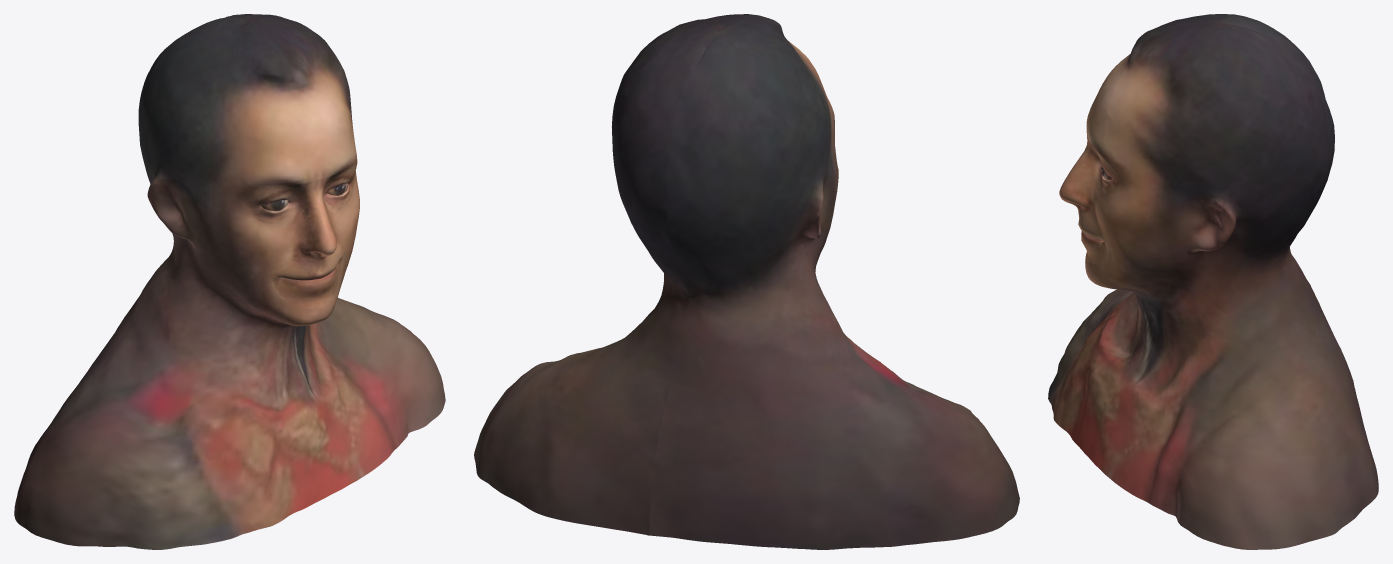
Rendered from simon_bolivar.lod1.glb.
3 renders of one model, left to right at view 1: azimuth 30°, elevation 25°; view 2: azimuth 150°, elevation 25°; view 3: azimuth 270°, elevation 25°, orthographic. The views are drawn at different scales.
Parts seen in each view (by area): view 1: Mesh_10257.rip; view 2: Mesh_10257.rip; view 3: Mesh_10257.rip.
Part boxes in pixels (x1=…): Mesh_10257.rip: x1=14, y1=14, x2=445, y2=549; Mesh_10257.rip: x1=474, y1=14, x2=1019, y2=549; Mesh_10257.rip: x1=1048, y1=14, x2=1378, y2=549.
Bounding box in the file's own units: 0.00437 × 0.00395 × 0.00277.
Materials: 1 (1 with a texture image).
